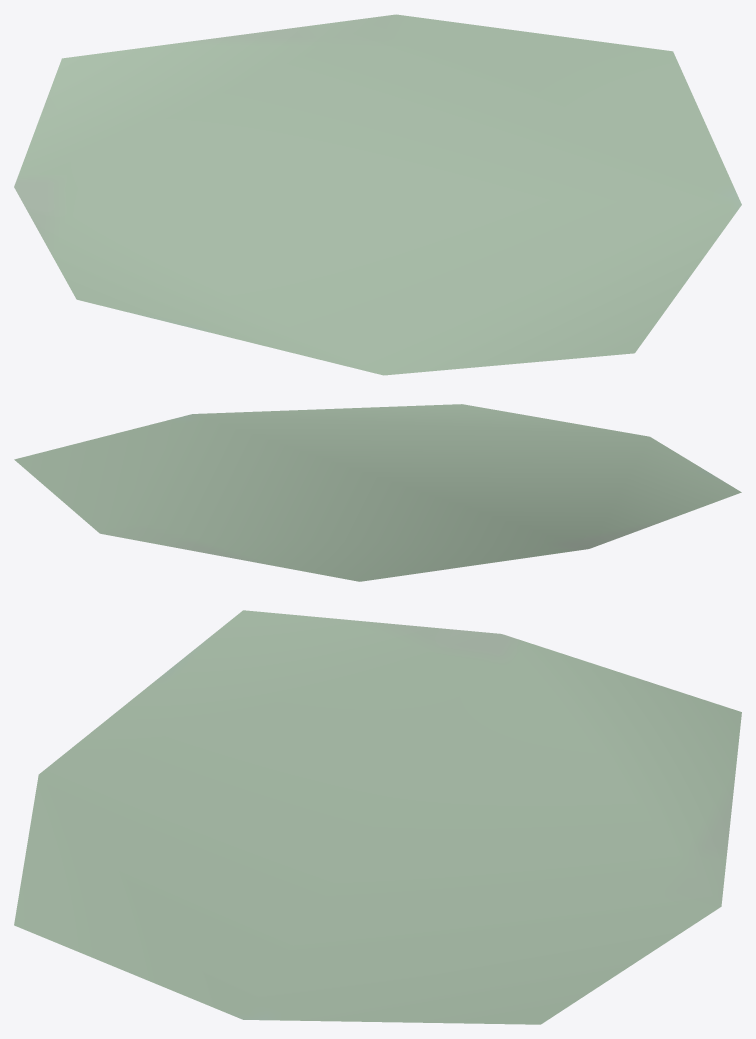
Rendered from TROLLHOLE02_HOLECAP182.fbx.
3 views of the same model, one above another, from view 1: azimuth 30°, elevation 25°; view 2: azimuth 150°, elevation 25°; view 3: azimuth 270°, elevation 25° (orthographic). The views are drawn at different scales.
Visible parts, largest first — view 1: TROLLHOLE02_HOLECAP182; view 2: TROLLHOLE02_HOLECAP182; view 3: TROLLHOLE02_HOLECAP182.
Part boxes in pixels (x1,y1,x2,y2): TROLLHOLE02_HOLECAP182: [14, 14, 741, 375]; TROLLHOLE02_HOLECAP182: [14, 404, 741, 581]; TROLLHOLE02_HOLECAP182: [14, 610, 741, 1024].
Bounding box in the file's own units: 21923 × 2684 × 17906.
Materials: 1 (1 with a texture image).
